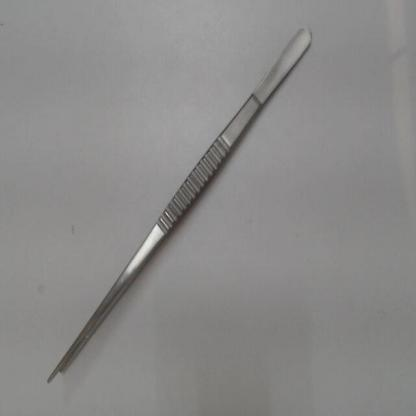DeBakey Dissector: (25, 13, 333, 399)
